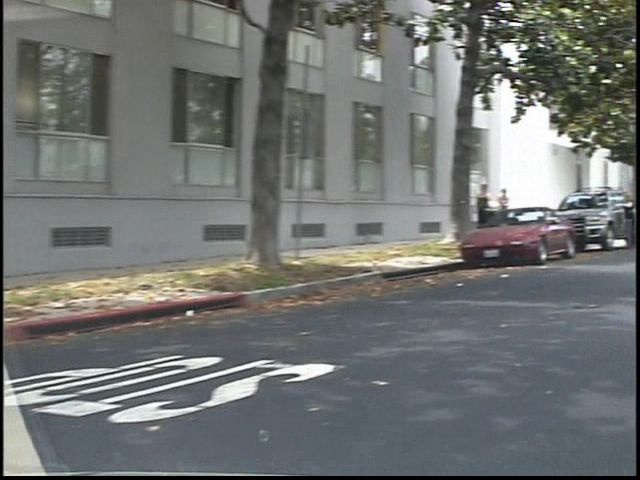person: (486, 179, 509, 243), (506, 185, 530, 238)
